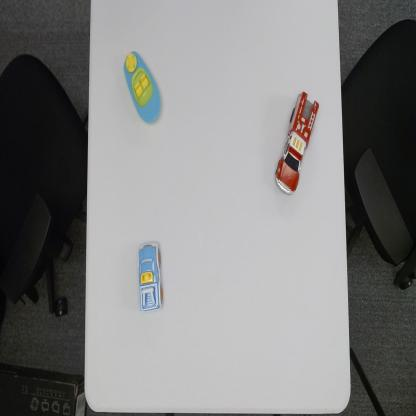Boat: (122, 48, 162, 126)
Car: (137, 240, 164, 314)
Firetruck: (274, 90, 321, 198)
